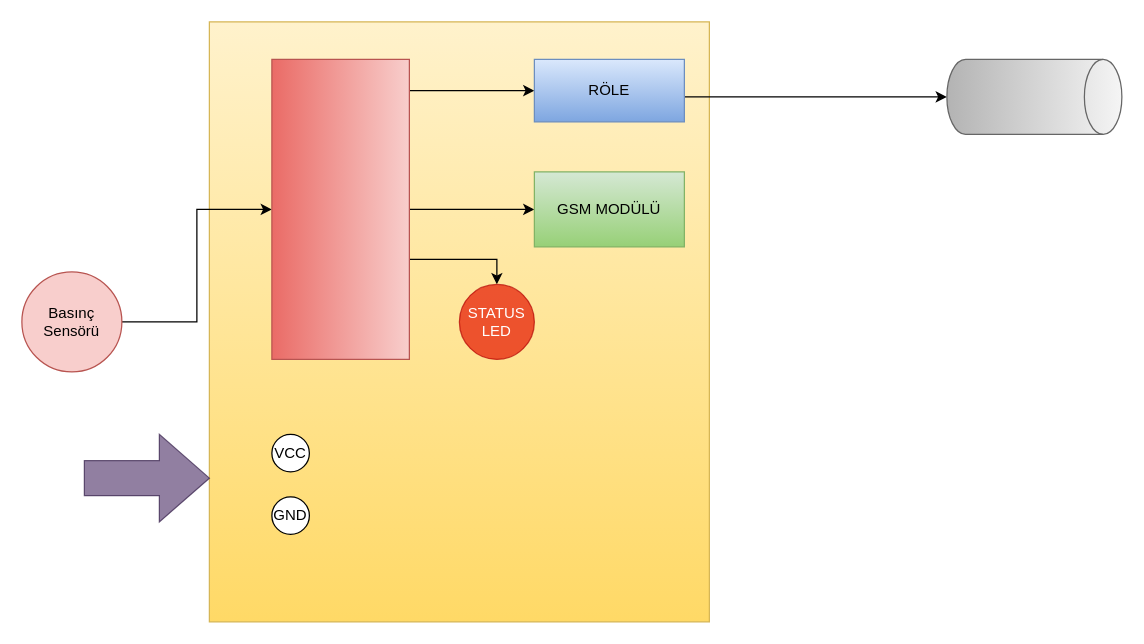
Image size: 1144x644. Some labels were removed from this diagram. Here are the shapes that lost their labels. From the top down, the box of each, then its label:
(946, 58, 1122, 134): MOTOR
(271, 58, 409, 359): MCU
(83, 433, 209, 522): GÜÇ GİRİŞİ
